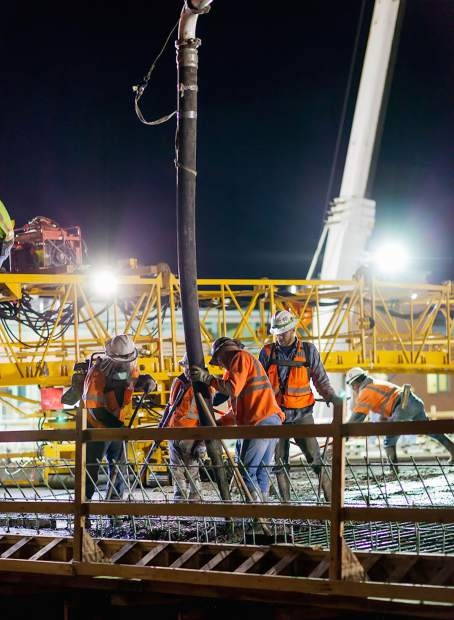red: (210, 336, 237, 365)
white: (268, 310, 299, 347), (104, 333, 136, 366), (343, 366, 368, 394)
